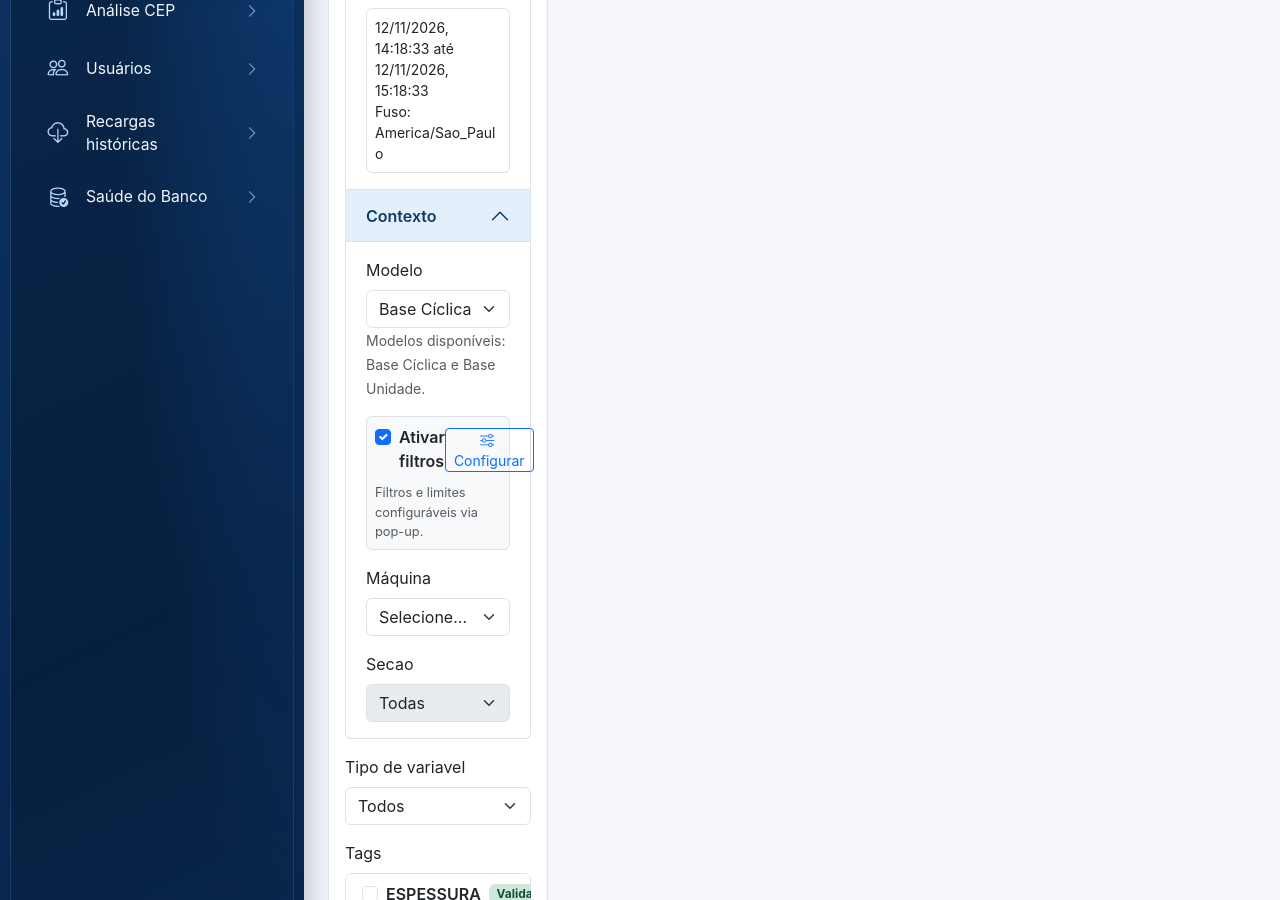
Test: Base Cíclica - Filtros e Limites Vinculados às Tags › abre pop-up/modal ao clicar em Configurar ou ao ativar filtros, exibindo controles de filtro existentes
The width and height of the screenshot is (1280, 900).
(page scrolled)
Expected: the checkbox with test id "cyclic-filters-switch" is shown, [375, 429, 391, 445]
// Clica no botão Configurar para abrir o modal
Click the button with test id "open-cyclic-filters-modal-btn": point(489, 450) [445, 428, 534, 472]
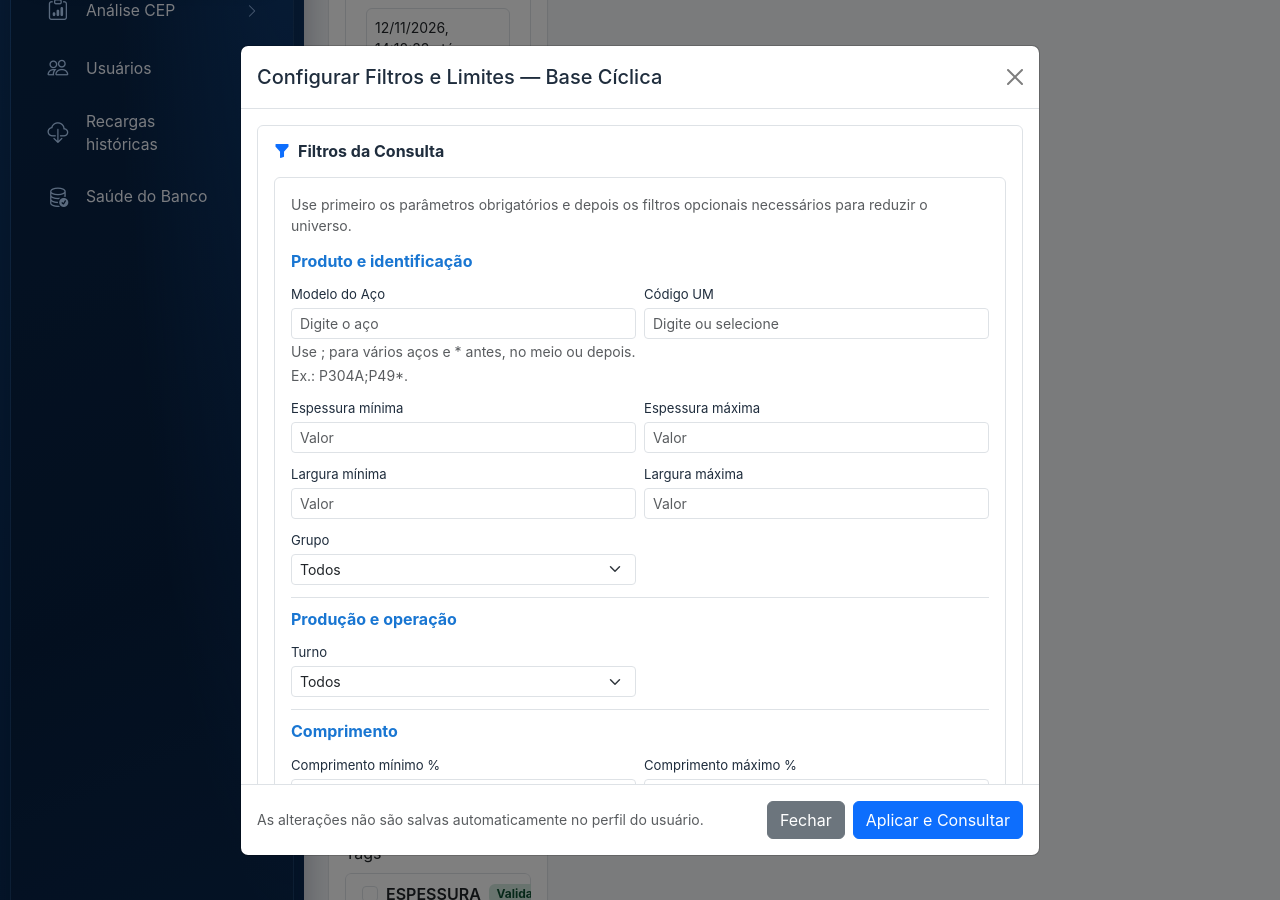
Expected: the element with test id "cyclic-filters-modal" is shown, [240, 28, 1040, 872]
Expected: the text "Configurar Filtros e Limites — Base Cíclica" is shown, [257, 62, 662, 92]
Expected: the element with test id "cyclic-modal-filters-section" is shown, [257, 124, 1023, 784]
// Fecha o modal pelo botão Fechar
Click the button with test id "close-cyclic-filters-modal-btn": point(806, 820) [767, 800, 845, 838]
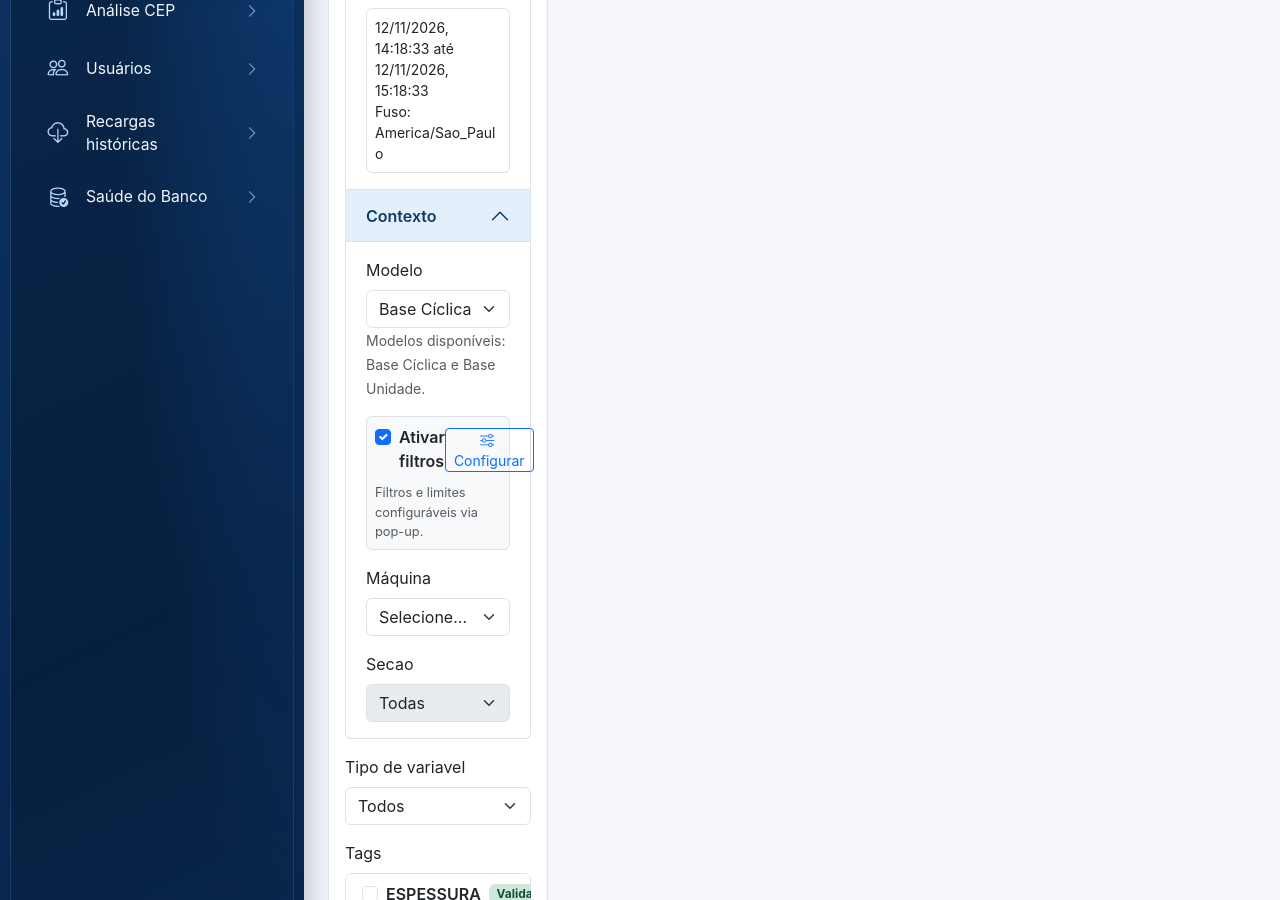
Expected: the element with test id "cyclic-filters-modal" is gone
